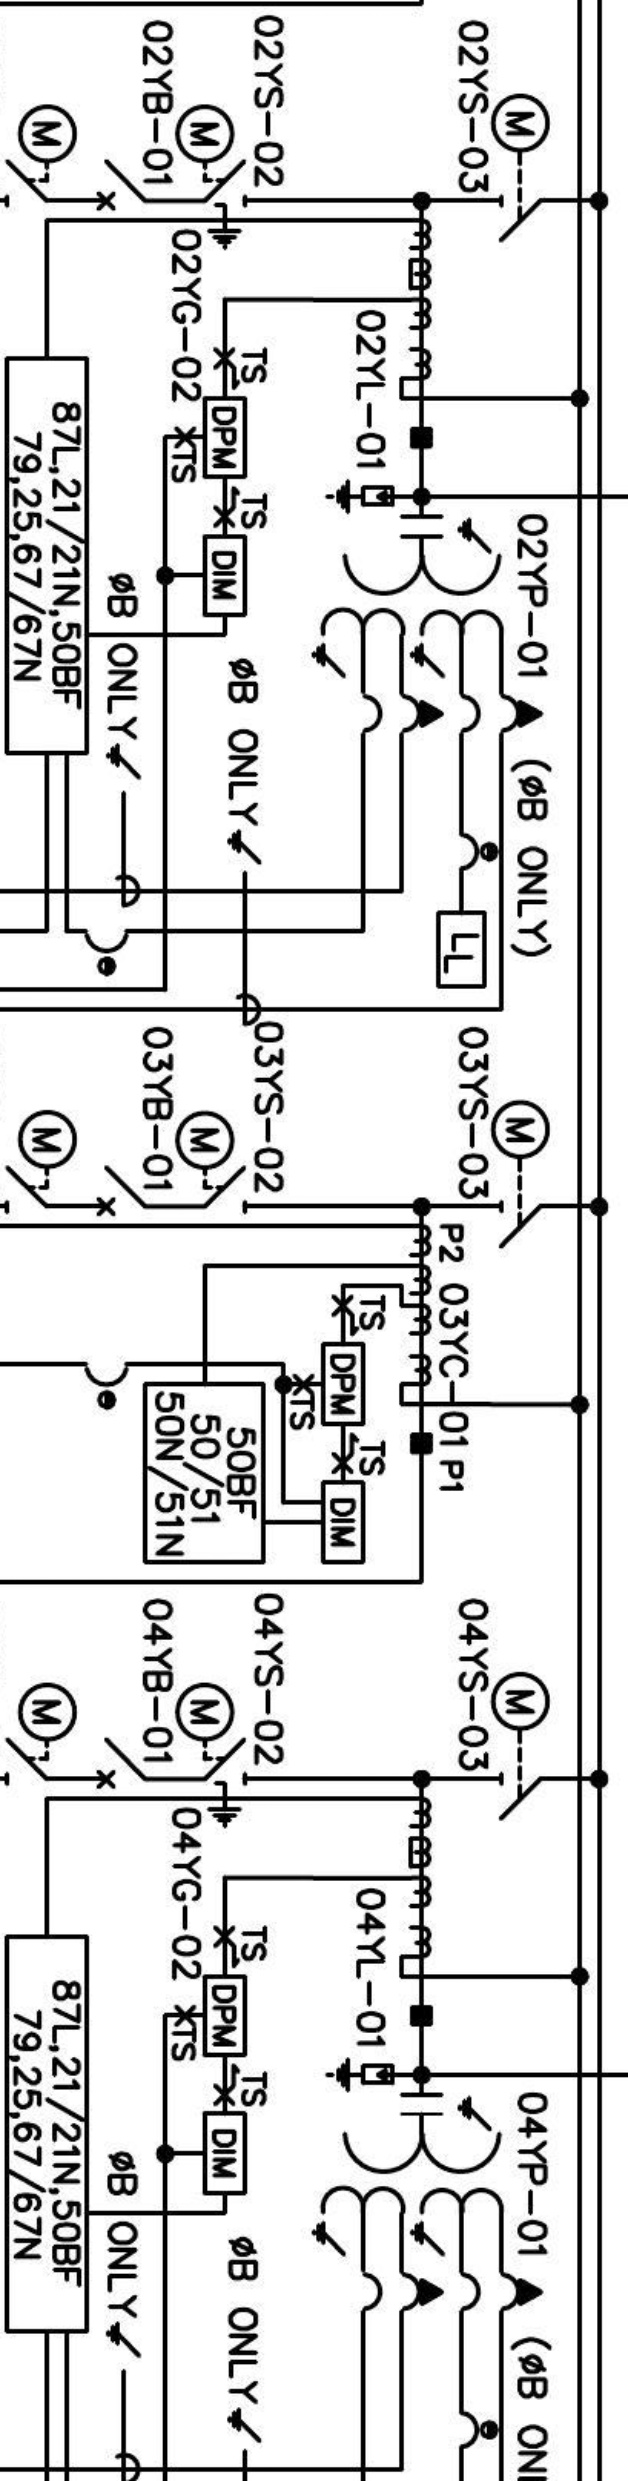115_1way_ds_w_motor: (489, 1671, 552, 1823), (490, 92, 552, 244), (490, 1098, 552, 1250), (5, 1108, 79, 1215), (174, 1109, 248, 1215), (5, 103, 78, 209), (5, 1680, 78, 1786)
115_3ways_ds_w_motor: (174, 103, 248, 252), (174, 1682, 248, 1829)
115_breaker: (96, 158, 147, 212), (96, 1163, 147, 1217), (96, 1737, 147, 1790)
115_cvt_1p: (310, 513, 544, 737), (310, 2092, 544, 2315)
115_la: (324, 478, 395, 514), (324, 2057, 395, 2093)
DIM: (321, 1479, 367, 1565), (202, 533, 248, 617), (202, 2111, 247, 2195)
DPM: (320, 1340, 367, 1427), (202, 396, 248, 479), (202, 1975, 247, 2057)
LL: (435, 910, 487, 989)
